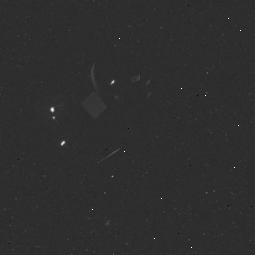proba_3_ocs: (39, 46, 164, 173)
